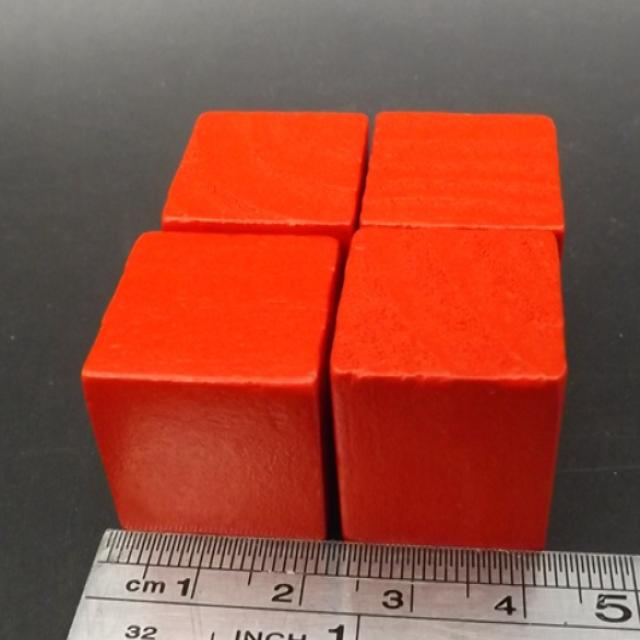red cube: (79, 231, 343, 537), (330, 229, 569, 552), (161, 108, 366, 270), (359, 109, 566, 259)
